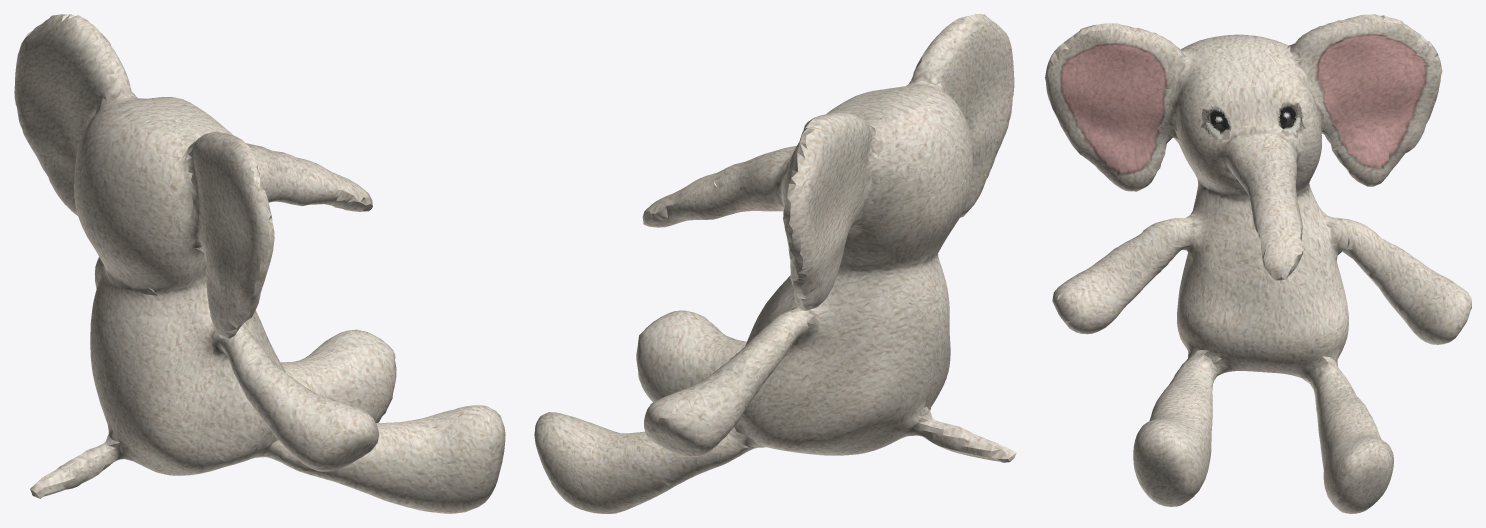
Rendered from elephant_aug_4.obj.
The picture shows the model from 3 angles, left to right: view 1: azimuth 30°, elevation 25°; view 2: azimuth 150°, elevation 25°; view 3: azimuth 270°, elevation 25°; orthographic projection. The views are drawn at different scales.
Bounding box in the file's own units: 98.69 × 105 × 103.
Materials: 1 (1 with a texture image).
